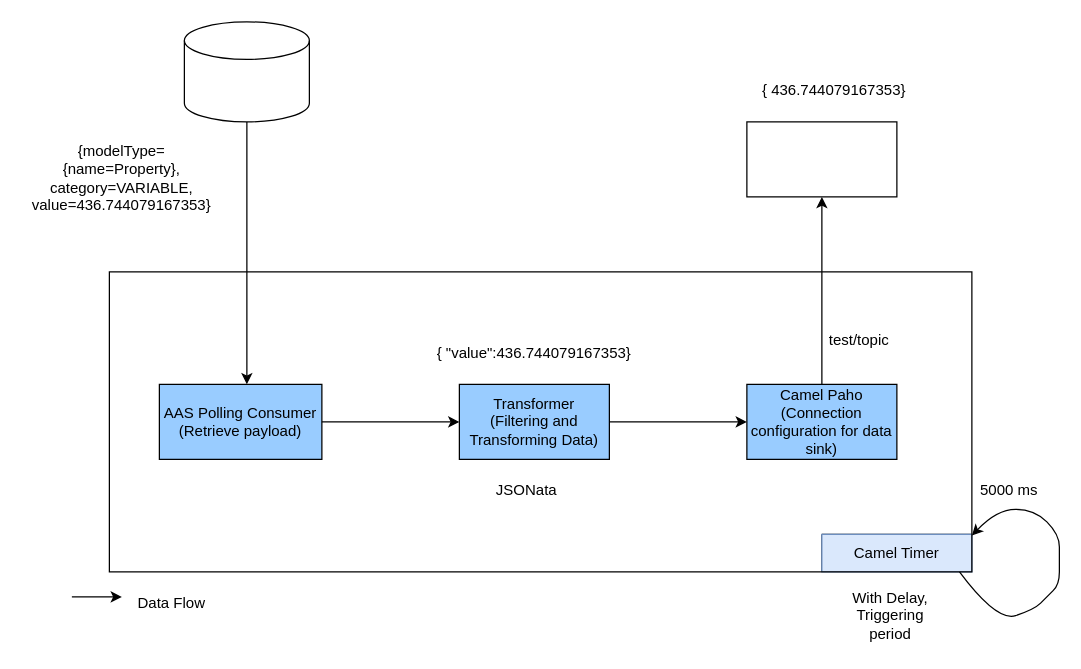
This 1081x669 diagram has some shape labels left out. Here are the shapes that lost their labels. From the top down, the centre of each, then its label:
the point at 246,71: AAS Server
the point at 821,159: MQTT Broker
